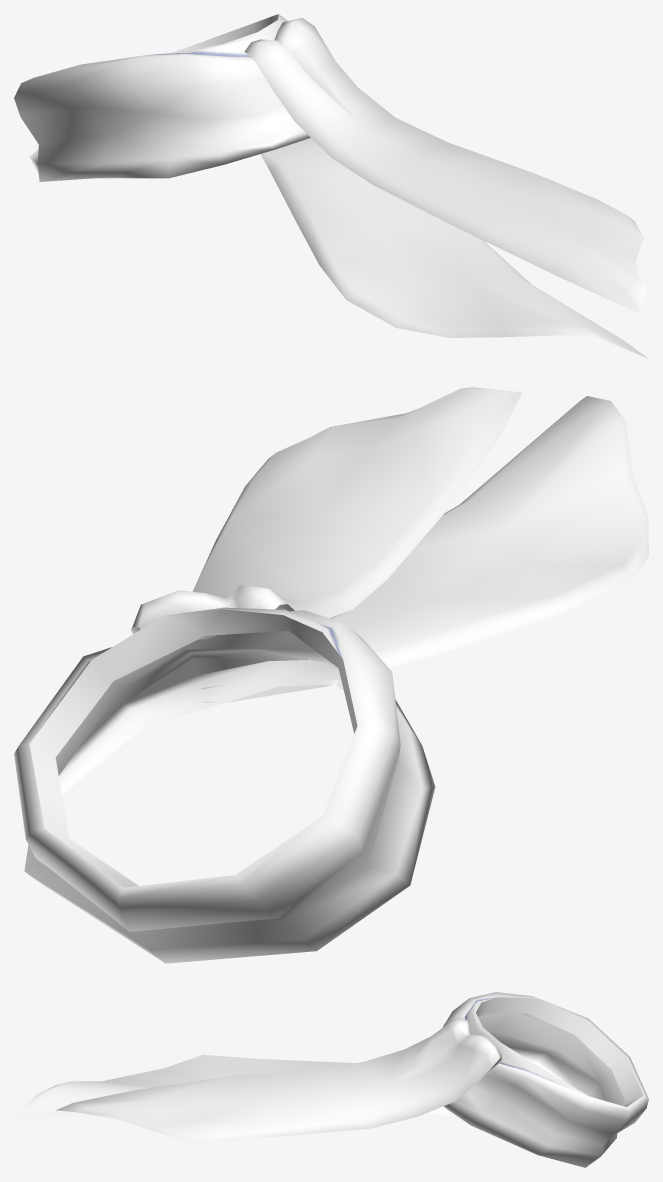
The model's file is ByerleyTurkScarfGround.fbx.
3 renders of one model, top to bottom at view 1: azimuth 30°, elevation 25°; view 2: azimuth 150°, elevation 25°; view 3: azimuth 270°, elevation 25°, orthographic. The views are drawn at different scales.
Parts seen in each view (by area): view 1: TurkScarf; view 2: TurkScarf; view 3: TurkScarf.
Boxes of the visible parts, x1=… form: TurkScarf: x1=14, y1=14, x2=647, y2=358; TurkScarf: x1=14, y1=387, x2=648, y2=963; TurkScarf: x1=14, y1=992, x2=648, y2=1167.
Bounding box in the file's own units: 0.0649 × 0.0356 × 0.1441.
